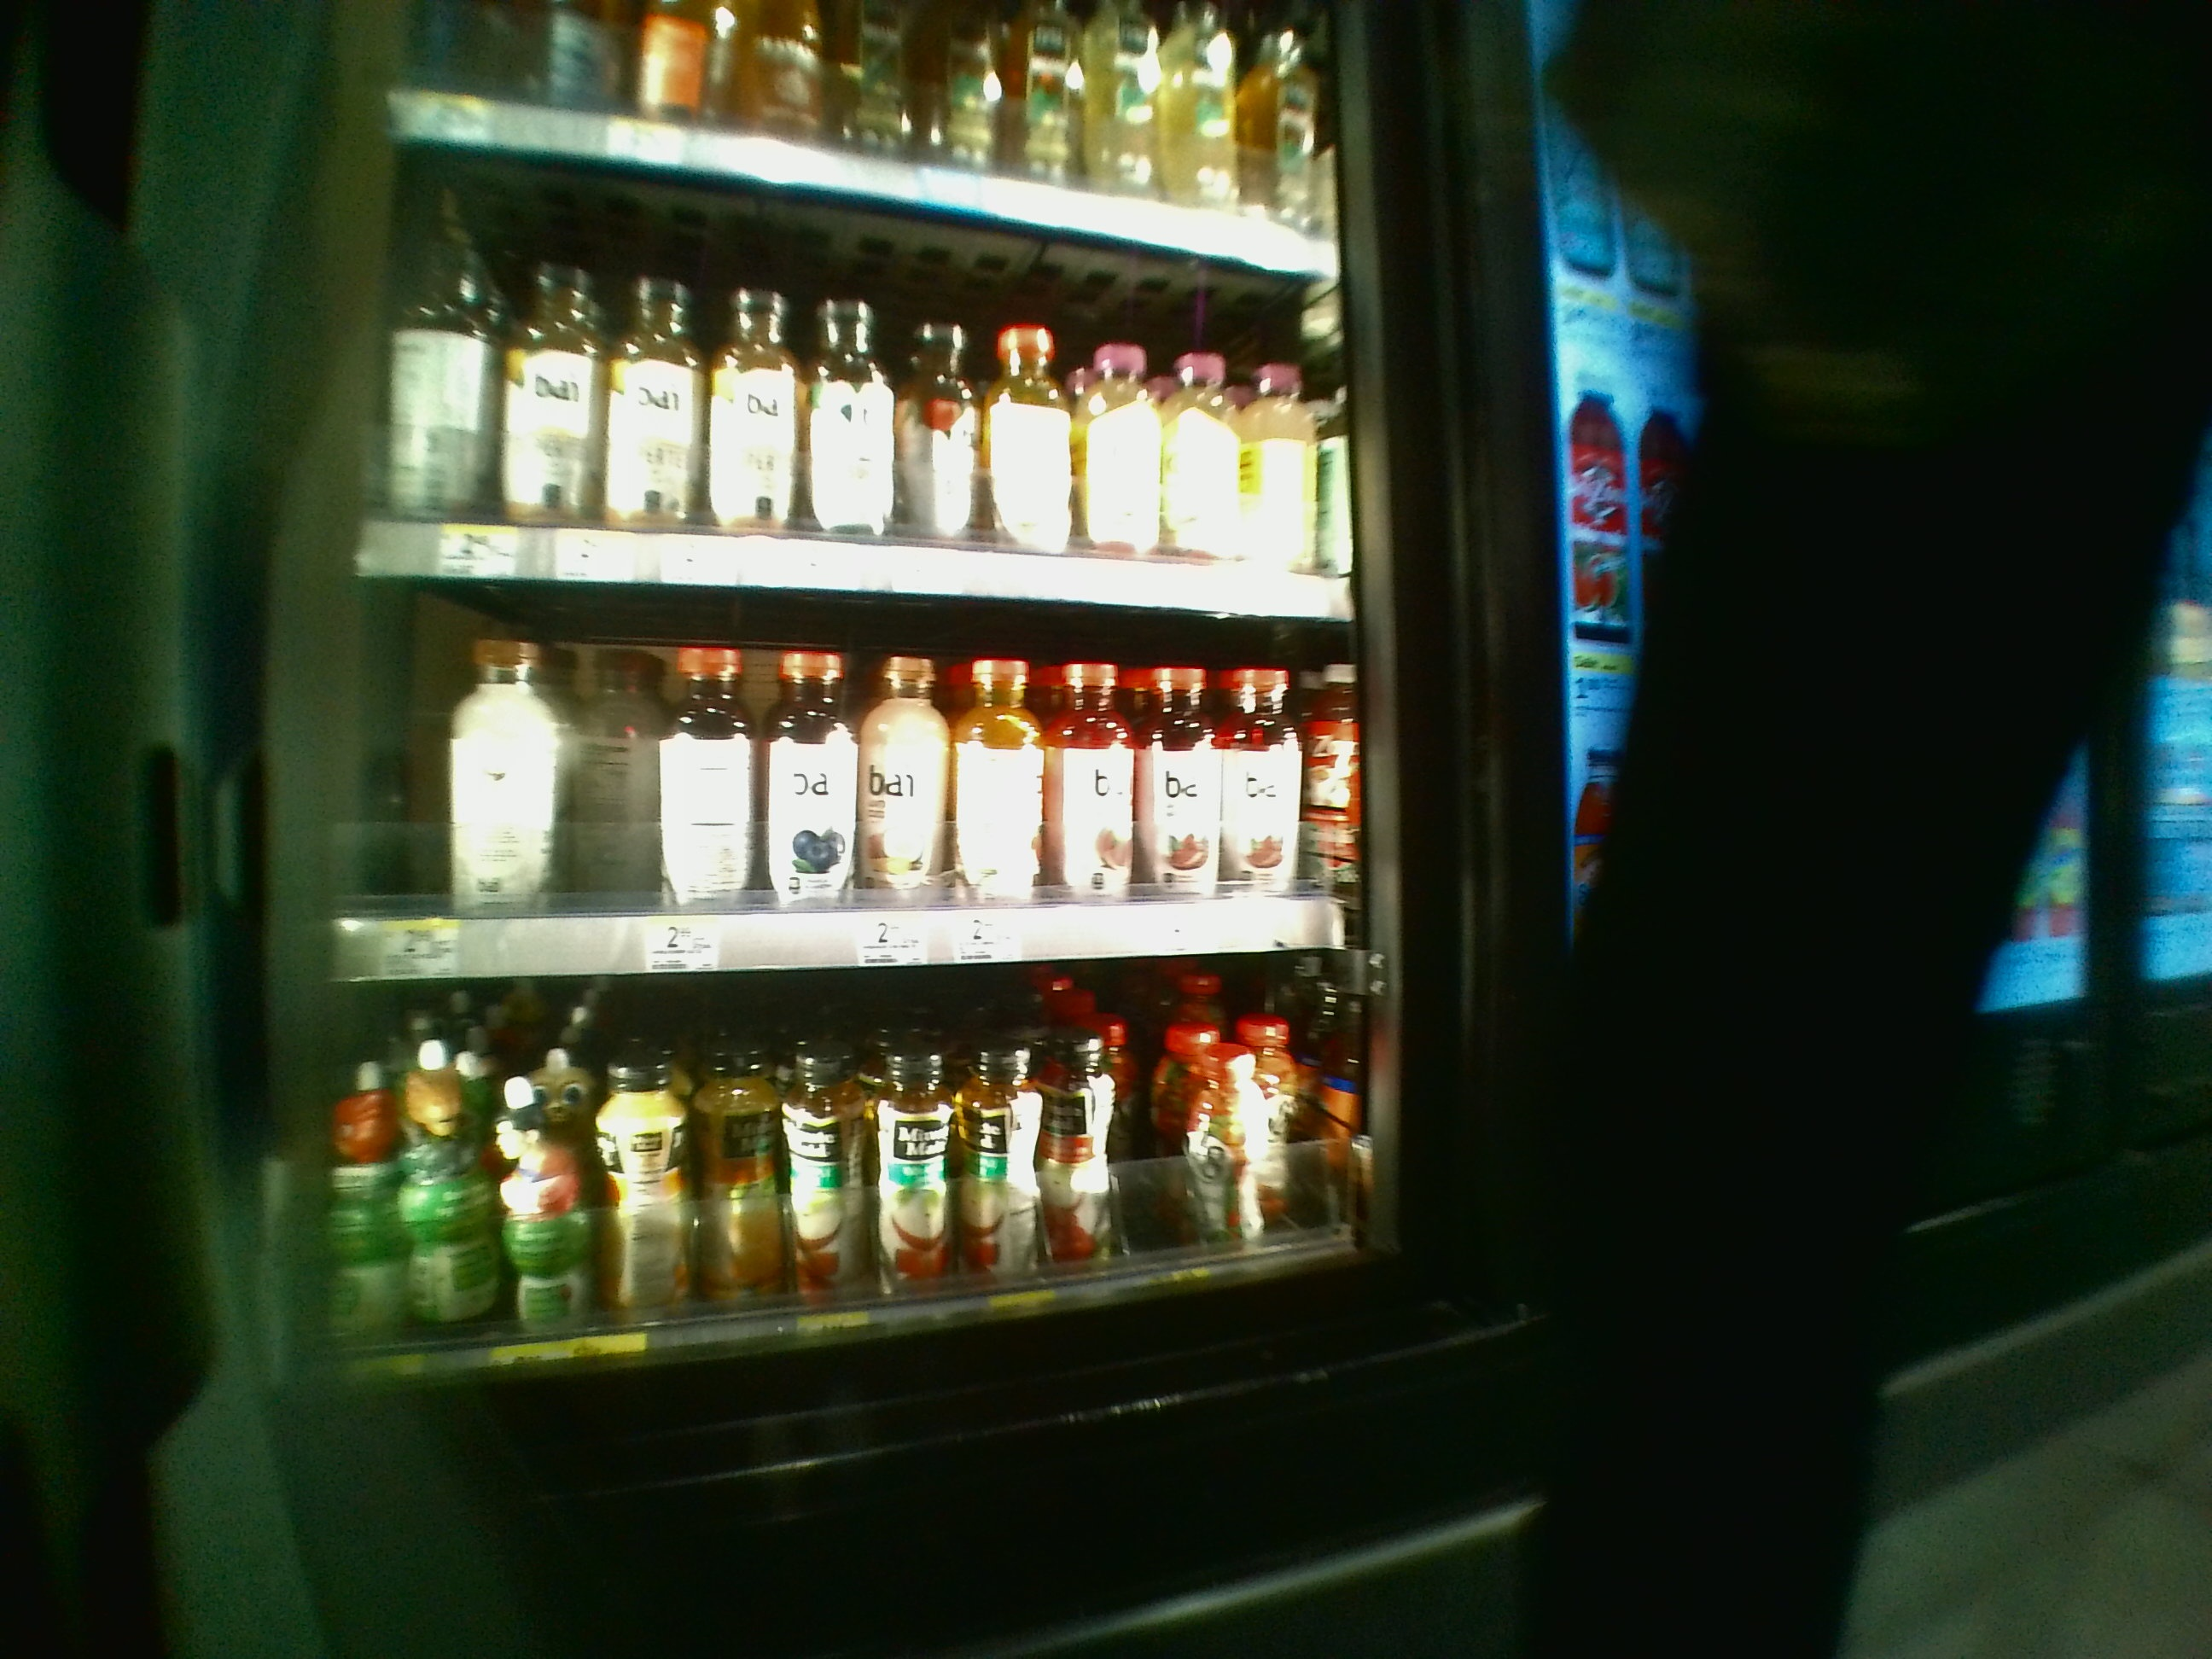shelf: (359, 129, 1360, 580), (354, 596, 1374, 985), (331, 978, 1378, 1354)
